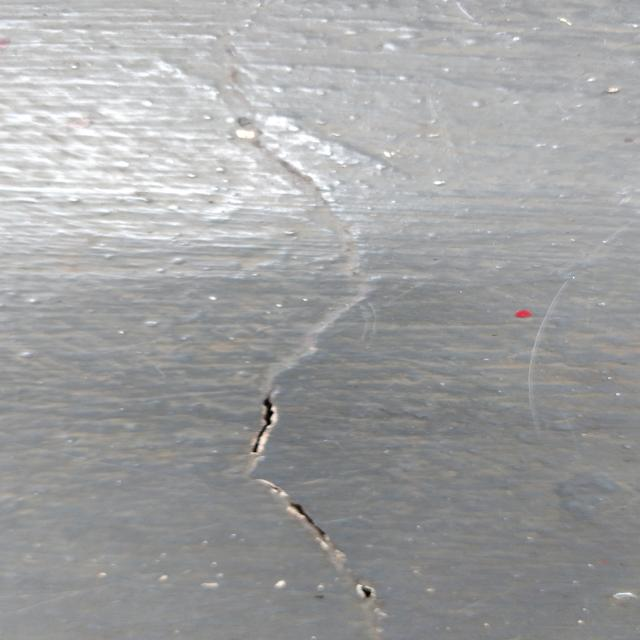Crack: (205, 12, 393, 637)
